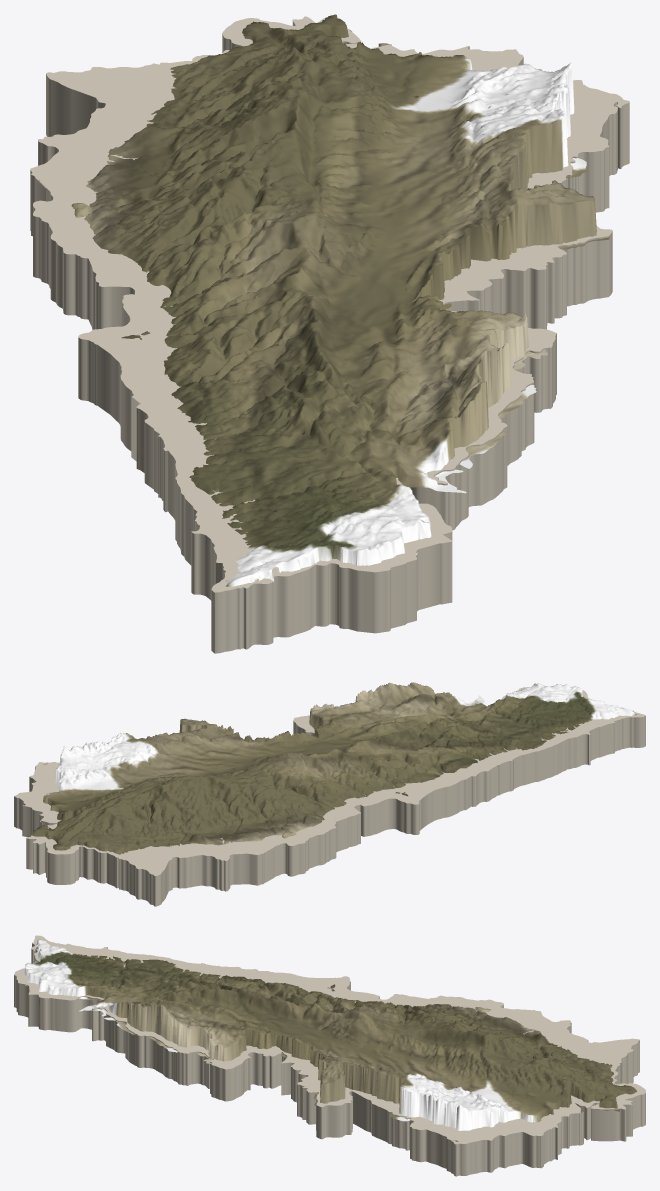
File: lebanon_terrain_desktop.glb
The picture shows the model from 3 angles, top to bottom: view 1: azimuth 30°, elevation 25°; view 2: azimuth 150°, elevation 25°; view 3: azimuth 270°, elevation 25°; orthographic projection. The views are drawn at different scales.
Parts seen in each view (by area): view 1: Lebanon_Desktop, Curve.001; view 2: Lebanon_Desktop, Curve.001; view 3: Lebanon_Desktop, Curve.001.
Part boxes in pixels (<box>): Lebanon_Desktop: <box>71,14,609,586</box>; Curve.001: <box>30,16,629,653</box>; Lebanon_Desktop: <box>27,682,636,854</box>; Curve.001: <box>14,685,645,906</box>; Lebanon_Desktop: <box>24,939,636,1130</box>; Curve.001: <box>14,935,645,1176</box>.
Bounding box in the file's own units: 7.77 × 1.14 × 9.93.
Materials: 2 (1 with a texture image).
